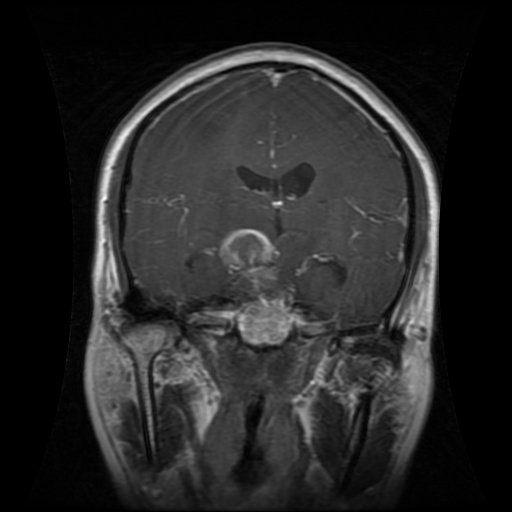glioma: (214, 225, 284, 295)
